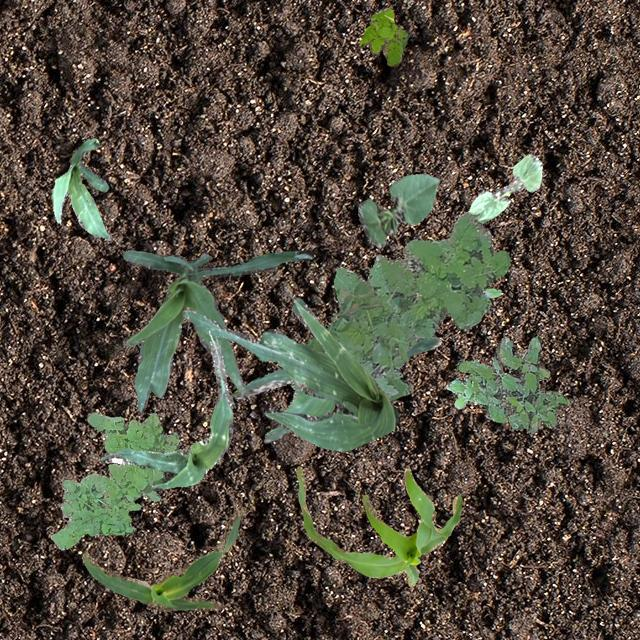crop: (182, 297, 398, 449), (121, 250, 312, 412), (230, 336, 440, 442), (100, 334, 232, 489), (294, 466, 460, 586), (82, 506, 246, 612), (51, 138, 110, 240), (358, 172, 438, 246), (467, 152, 542, 222)
weed: (290, 210, 510, 397), (50, 411, 180, 548), (446, 334, 568, 432), (328, 376, 412, 412), (358, 8, 406, 66), (480, 286, 500, 298)
